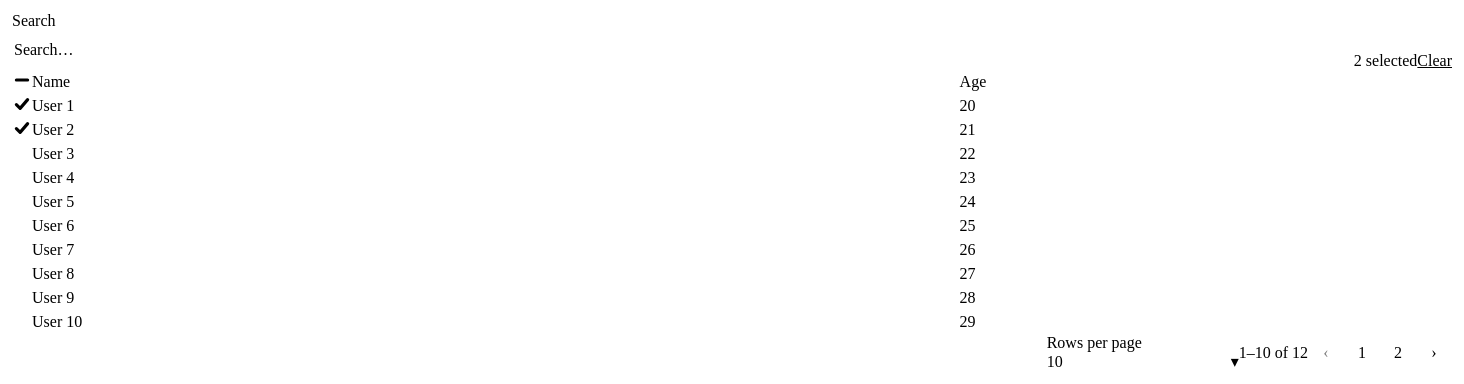
Test: shows a selection count and clears selection
Expected: the text "2 selected" is shown, [1354,52,1417,70]
Click the button with aria-label "clear selection": point(1435, 61) [1417,52,1452,70]
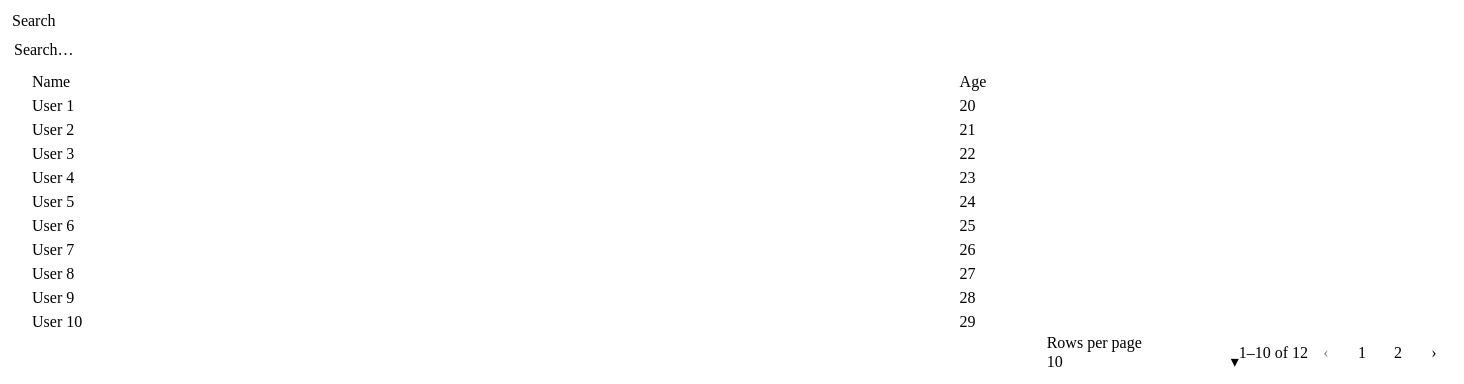
Result: the text "2 selected" is gone
